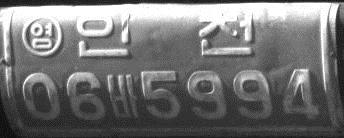0: (21, 71, 63, 121)
4: (280, 67, 322, 123)
5: (139, 68, 182, 121)
6: (66, 71, 107, 123)
9: (186, 69, 229, 121), (232, 69, 273, 119)
바: (107, 72, 142, 121)
영: (22, 16, 63, 57)
인천_D: (74, 10, 255, 58)
